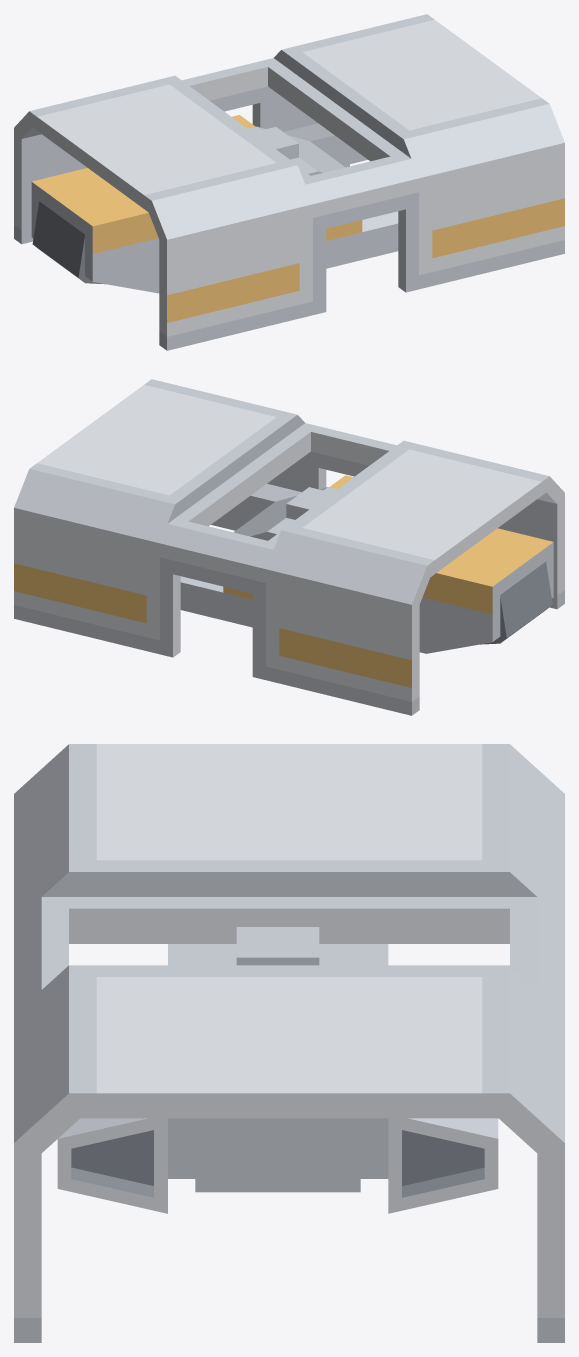
Rendered from hanger1.glb.
The picture shows the model from 3 angles, top to bottom: view 1: azimuth 30°, elevation 25°; view 2: azimuth 150°, elevation 25°; view 3: azimuth 270°, elevation 25°; orthographic projection. The views are drawn at different scales.
Visible parts, largest first — view 1: craft_cargoA; view 2: craft_cargoA; view 3: craft_cargoA.
Part boxes in pixels (left/top/right/bottom): craft_cargoA: left=14, top=14, right=564, bottom=350; craft_cargoA: left=14, top=379, right=564, bottom=715; craft_cargoA: left=14, top=744, right=564, bottom=1342.
Size of the model in its own units: 18.02 by 5.48 by 10.96.
